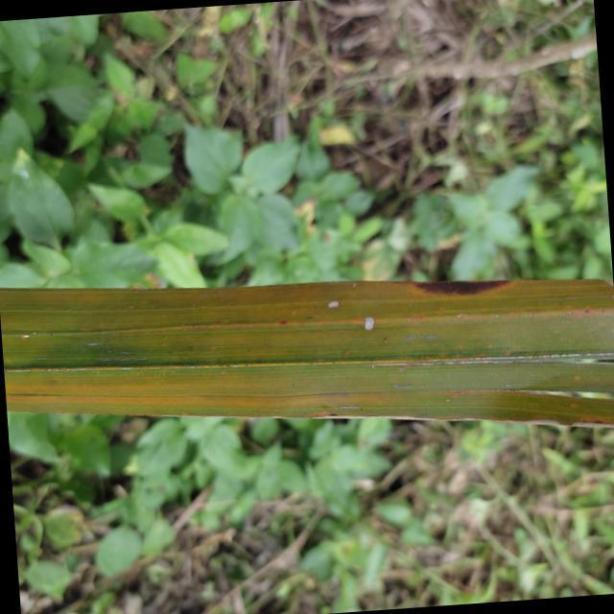Megnesium: (0, 275, 614, 427)
